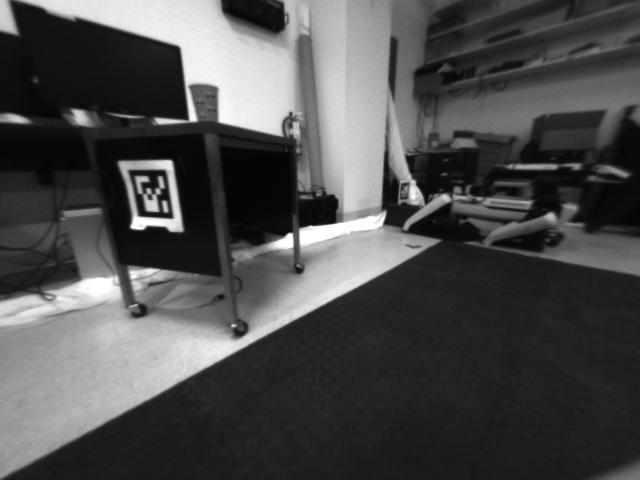coffee_cup: (185, 83, 224, 121)
